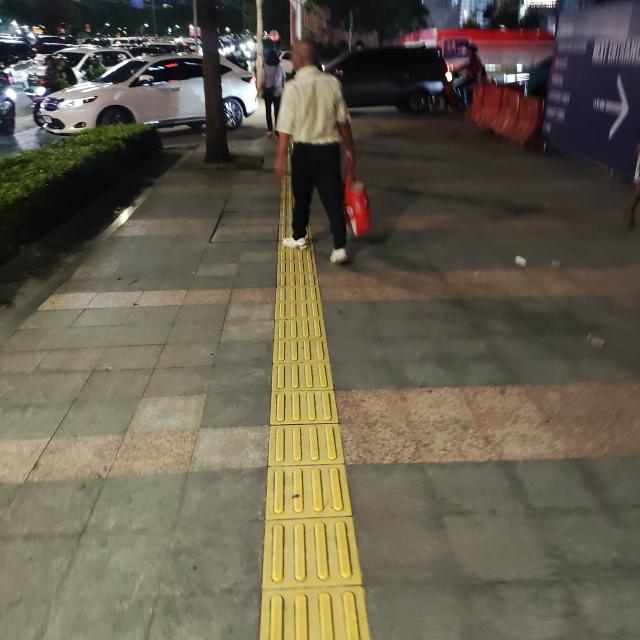lurus: (254, 243, 349, 640)
